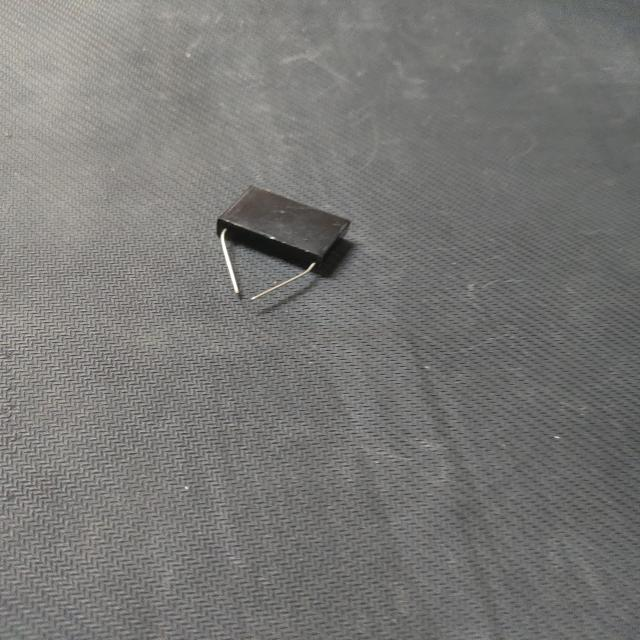capacitor: (216, 186, 350, 301)
